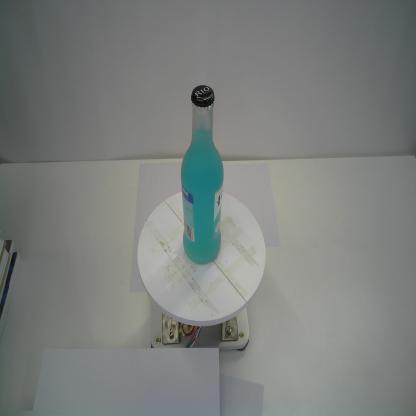Alcohol: (180, 84, 224, 266)
